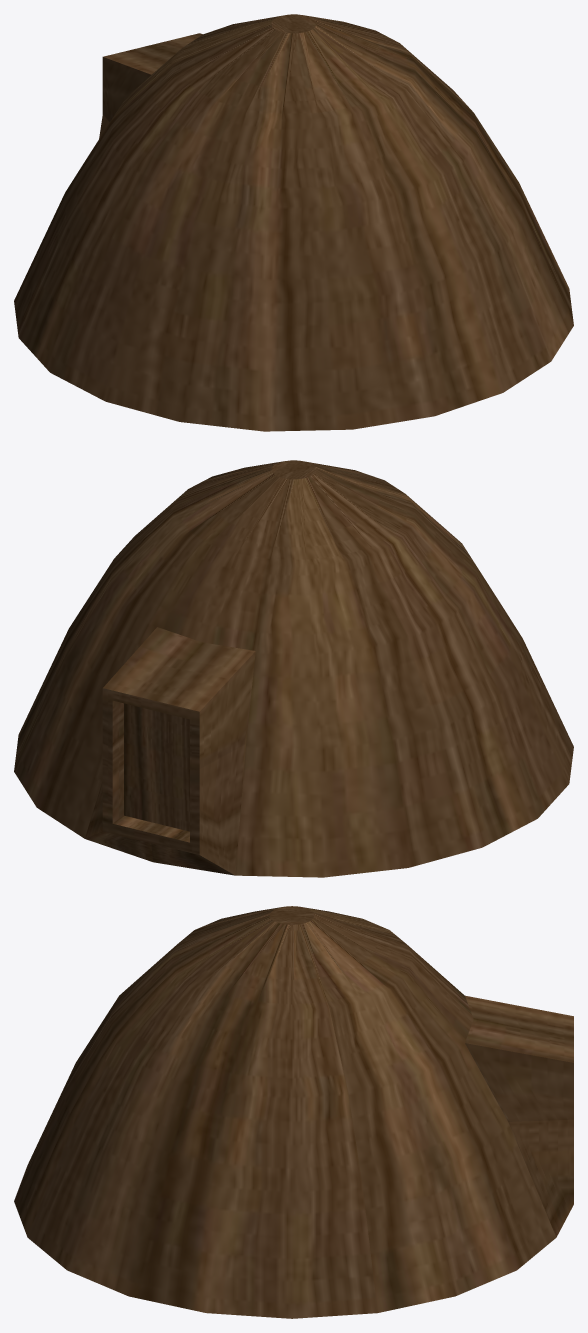
File: windmill-top.obj
3 renders of one model, top to bottom at view 1: azimuth 30°, elevation 25°; view 2: azimuth 150°, elevation 25°; view 3: azimuth 270°, elevation 25°, orthographic.
Parts seen in each view (by area): view 1: pCylinder2; view 2: pCylinder2; view 3: pCylinder2.
Part boxes in pixels (left/top/right/bottom): pCylinder2: left=14, top=14, right=573, bottom=431; pCylinder2: left=14, top=460, right=573, bottom=877; pCylinder2: left=14, top=906, right=573, bottom=1318.
Size of the model in its own units: 5.27 by 2.99 by 5.31.
2 materials, 2 textured.
